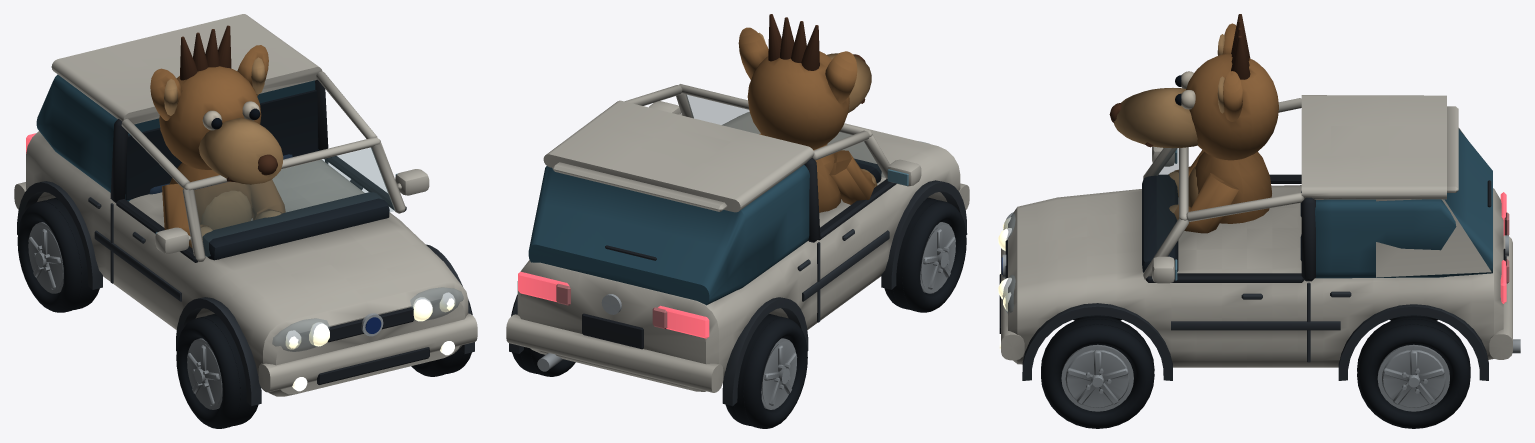
File: hola-willy.glb
The picture shows the model from 3 angles, left to right: view 1: azimuth 30°, elevation 25°; view 2: azimuth 150°, elevation 25°; view 3: azimuth 270°, elevation 25°; orthographic projection.
Visible parts, largest first — view 1: hola-willy-hull, hola-willy-roof, hola-willy-windscreen, alf-head_merged, hola-willy-greenhouse-glass, hola-willy-dashboard, hola-willy-bulkhead, hola-willy-bumpers, hola-willy-windscreen-frame, alf-snout_merged, hola-willy-tire-front-right.003, hola-willy-tire-rear-right.003 (+16 smaller); view 2: hola-willy-greenhouse-glass, hola-willy-hull, hola-willy-roof, alf-head_merged, hola-willy-bumpers, hola-willy-tire-front-right.003, hola-willy-tire-rear-right.003, hola-willy-wheel-lips, hola-willy-windscreen-frame, hola-willy-windscreen, hola-willy-pillars, alf-nose_merged (+14 smaller); view 3: hola-willy-hull, hola-willy-roof, hola-willy-greenhouse-glass, alf-head_merged, hola-willy-tire-rear-left.003, hola-willy-tire-front-left.003, hola-willy-wheel-lips, hola-willy-pillars, alf-snout_merged, hola-willy-rim-front-left.003, hola-willy-rim-rear-left.003, hola-willy-windscreen-frame (+12 smaller).
Boxes of the visible parts, bbox=[...] form: hola-willy-hull: bbox=[26, 131, 468, 396]; hola-willy-roof: bbox=[51, 14, 322, 124]; hola-willy-windscreen: bbox=[194, 148, 394, 256]; alf-head_merged: bbox=[150, 45, 268, 169]; hola-willy-greenhouse-glass: bbox=[36, 74, 318, 201]; hola-willy-dashboard: bbox=[202, 192, 389, 260]; hola-willy-bulkhead: bbox=[125, 90, 318, 200]; hola-willy-bumpers: bbox=[14, 182, 477, 392]; hola-willy-windscreen-frame: bbox=[121, 71, 405, 262]; alf-snout_merged: bbox=[164, 57, 283, 184]; hola-willy-tire-front-right.003: bbox=[176, 314, 258, 428]; hola-willy-tire-rear-right.003: bbox=[17, 197, 99, 312]; hola-willy-greenhouse-glass: bbox=[528, 165, 809, 305]; hola-willy-hull: bbox=[517, 112, 960, 391]; hola-willy-roof: bbox=[543, 100, 814, 212]; alf-head_merged: bbox=[738, 27, 857, 149]; hola-willy-bumpers: bbox=[506, 183, 969, 392]; hola-willy-tire-front-right.003: bbox=[884, 197, 966, 312]; hola-willy-tire-rear-right.003: bbox=[723, 314, 807, 428]; hola-willy-wheel-lips: bbox=[509, 180, 967, 406]; hola-willy-windscreen-frame: bbox=[624, 84, 889, 178]; hola-willy-windscreen: bbox=[686, 95, 884, 177]; hola-willy-pillars: bbox=[552, 162, 727, 211]; alf-nose_merged: bbox=[768, 14, 865, 103]; hola-willy-hull: bbox=[1008, 185, 1503, 367]; hola-willy-roof: bbox=[1301, 95, 1446, 199]; hola-willy-greenhouse-glass: bbox=[1315, 129, 1492, 278]; alf-head_merged: bbox=[1186, 23, 1278, 160]; hola-willy-tire-rear-left.003: bbox=[1357, 316, 1470, 428]; hola-willy-tire-front-left.003: bbox=[1041, 316, 1154, 428]; hola-willy-wheel-lips: bbox=[1022, 303, 1488, 380]; hola-willy-pillars: bbox=[1376, 106, 1491, 277]; alf-snout_merged: bbox=[1114, 34, 1224, 148]; hola-willy-rim-front-left.003: bbox=[1061, 344, 1133, 411]; hola-willy-rim-rear-left.003: bbox=[1377, 344, 1449, 411]; hola-willy-windscreen-frame: bbox=[1143, 98, 1304, 279].
Bounding box in the file's own units: 2.6 × 3.03 × 4.43.
